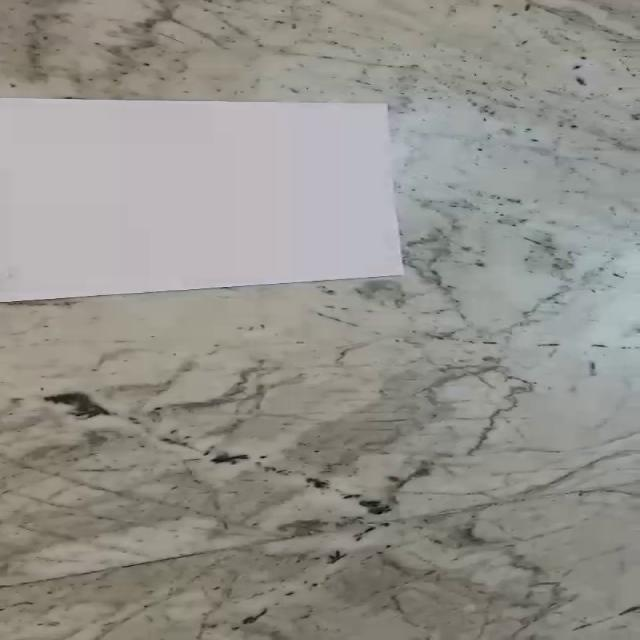road: (0, 99, 401, 304)
